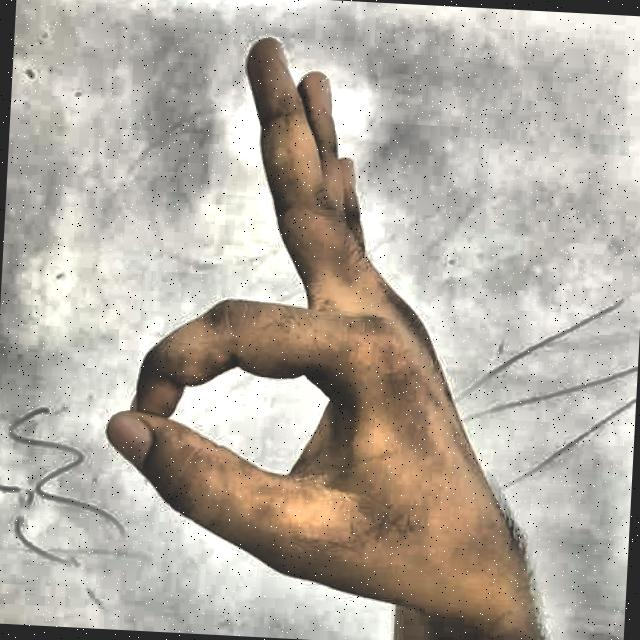Ca: (60, 6, 584, 640)
